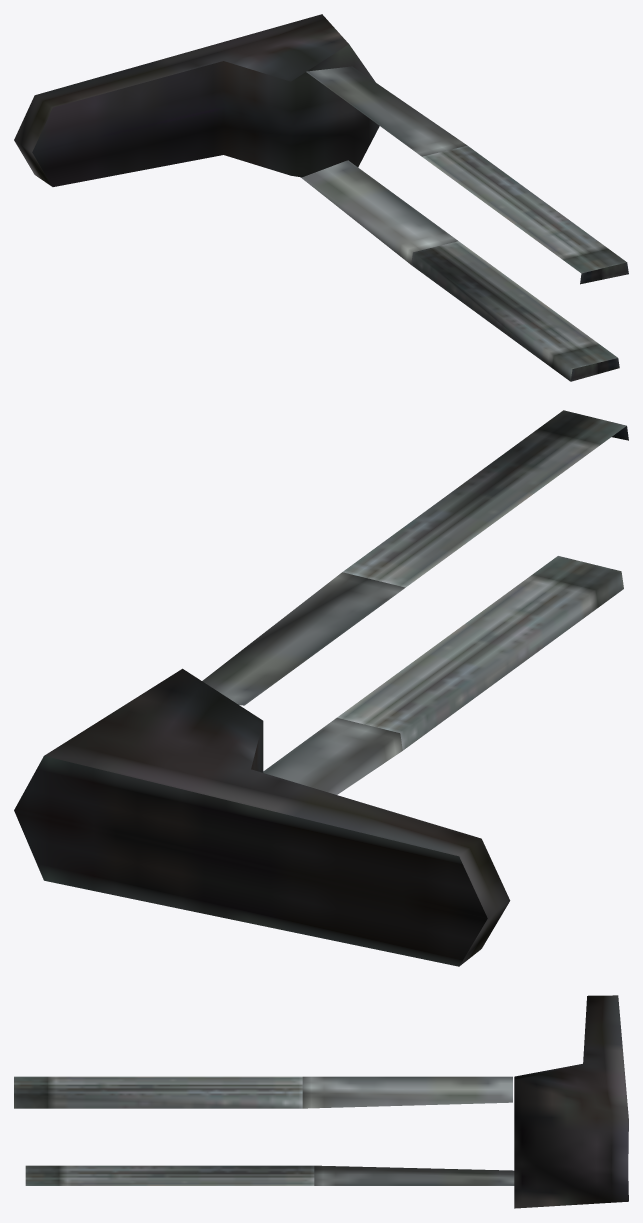
Rendered from Pickup_Pw1052Mp5sdQtb01.glb.
3 views of the same model, one above another, from view 1: azimuth 30°, elevation 25°; view 2: azimuth 150°, elevation 25°; view 3: azimuth 270°, elevation 25° (orthographic). The views are drawn at different scales.
Visible parts, largest first — view 1: pk_pw_1052_mp5sd_qtb_01; view 2: pk_pw_1052_mp5sd_qtb_01; view 3: pk_pw_1052_mp5sd_qtb_01.
Boxes of the visible parts, <box> form: pk_pw_1052_mp5sd_qtb_01: <box>14,14,628,381</box>; pk_pw_1052_mp5sd_qtb_01: <box>14,410,628,966</box>; pk_pw_1052_mp5sd_qtb_01: <box>14,995,628,1208</box>.
Size of the model in its own units: 0.2448 by 0.0979 by 0.4286.
Materials: 1 (1 with a texture image).
